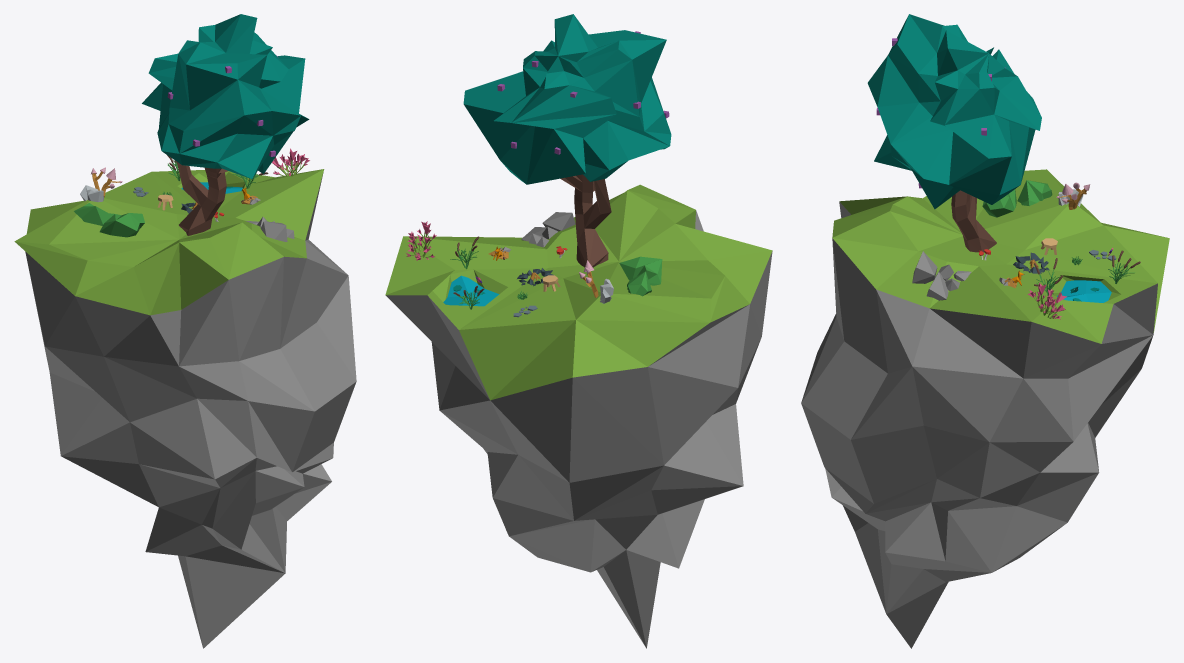
3 views of the same model, side by side, from view 1: azimuth 30°, elevation 25°; view 2: azimuth 150°, elevation 25°; view 3: azimuth 270°, elevation 25° (orthographic). The views are drawn at different scales.
Parts seen in each view (by area): view 1: node_MeshObject-1406650304-PolyPaper9, node_MeshObject512802048-PolyPaper10, node_MeshObject-1925370368-PolyPaper20; view 2: node_MeshObject-1406650304-PolyPaper9, node_MeshObject512802048-PolyPaper10, node_MeshObject-1925370368-PolyPaper20; view 3: node_MeshObject-1406650304-PolyPaper9, node_MeshObject512802048-PolyPaper10, node_MeshObject-1925370368-PolyPaper20.
Boxes of the visible parts, left/top/right/bottom form: node_MeshObject-1406650304-PolyPaper9: left=14, top=139, right=356, bottom=648; node_MeshObject512802048-PolyPaper10: left=74, top=14, right=309, bottom=225; node_MeshObject-1925370368-PolyPaper20: left=80, top=148, right=309, bottom=241; node_MeshObject-1406650304-PolyPaper9: left=385, top=61, right=772, bottom=648; node_MeshObject512802048-PolyPaper10: left=450, top=14, right=671, bottom=317; node_MeshObject-1925370368-PolyPaper20: left=408, top=174, right=613, bottom=309; node_MeshObject-1406650304-PolyPaper9: left=801, top=67, right=1169, bottom=648; node_MeshObject512802048-PolyPaper10: left=867, top=14, right=1140, bottom=301; node_MeshObject-1925370368-PolyPaper20: left=912, top=182, right=1124, bottom=318.
Size of the model in its own units: 3.55 by 6.83 by 3.53.
